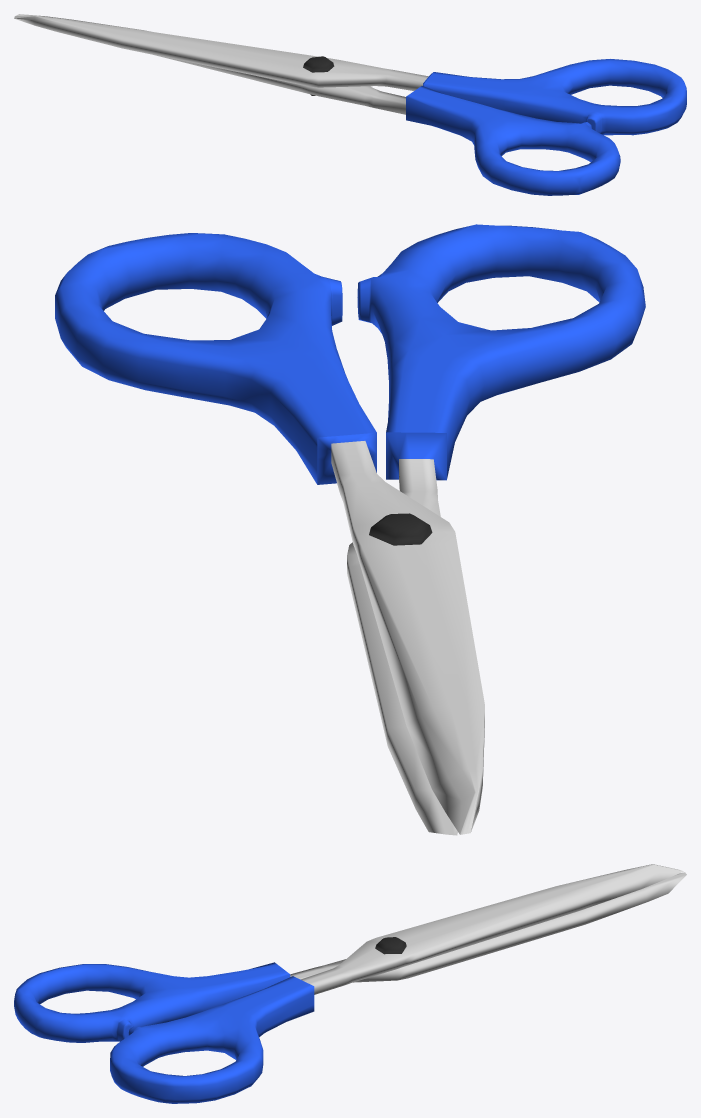
Rendered from Scissors.fbx.
The picture shows the model from 3 angles, top to bottom: view 1: azimuth 30°, elevation 25°; view 2: azimuth 150°, elevation 25°; view 3: azimuth 270°, elevation 25°; orthographic projection. The views are drawn at different scales.
Visible parts, largest first — view 1: Scissor_B, Scissor_A; view 2: Scissor_B, Scissor_A; view 3: Scissor_B, Scissor_A.
Part boxes in pixels (<box>): Scissor_B: <box>14,15,686,135</box>; Scissor_A: <box>16,14,620,195</box>; Scissor_B: <box>55,233,484,834</box>; Scissor_A: <box>347,224,645,835</box>; Scissor_B: <box>110,864,683,1103</box>; Scissor_A: <box>14,872,686,1042</box>.
Bounding box in the file's own units: 3.42 × 0.2254 × 4.35.
